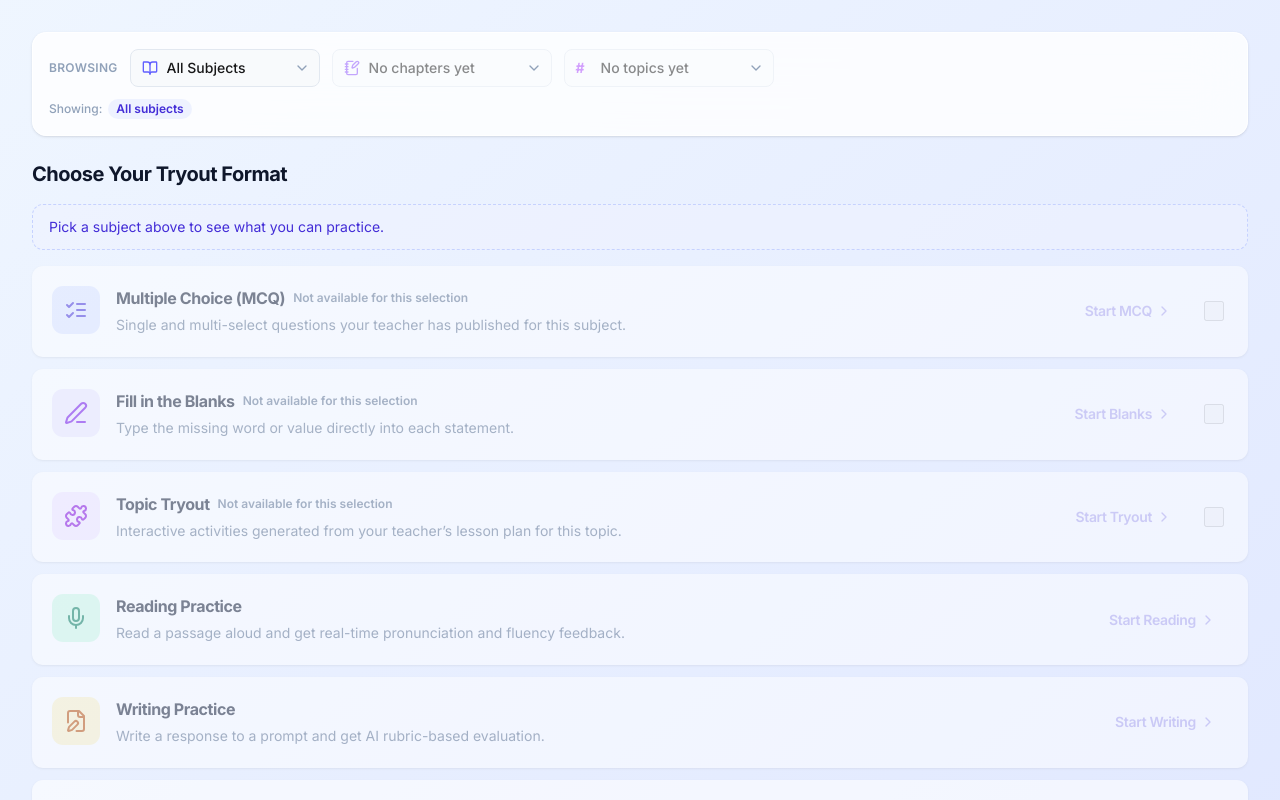
Test: PracticePapersPortal › opens a teacher MCQ inside the practice-papers page
Select "Mathematics" in the dropdown named "Select Subject": (225, 68) left=130, top=49, right=320, bottom=87
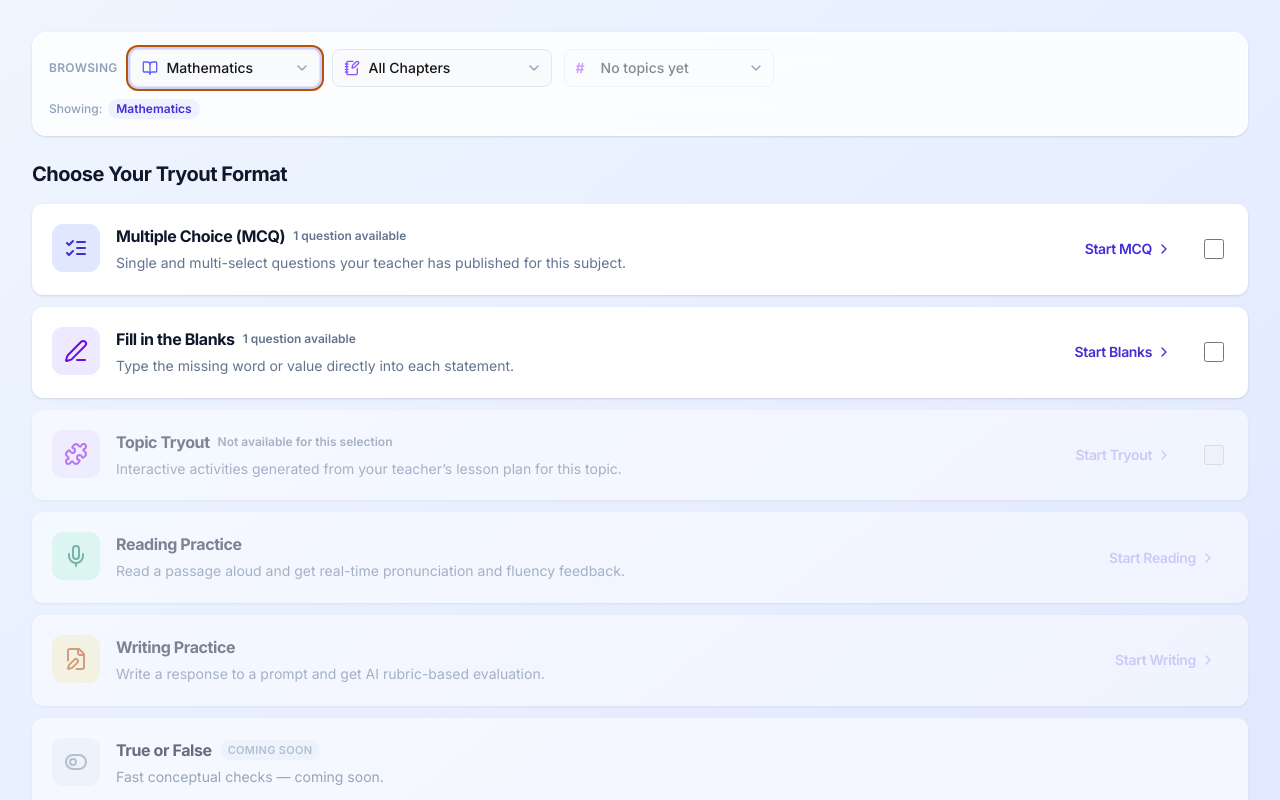
Click the button "Start MCQ": (1128, 249) left=1073, top=233, right=1184, bottom=265
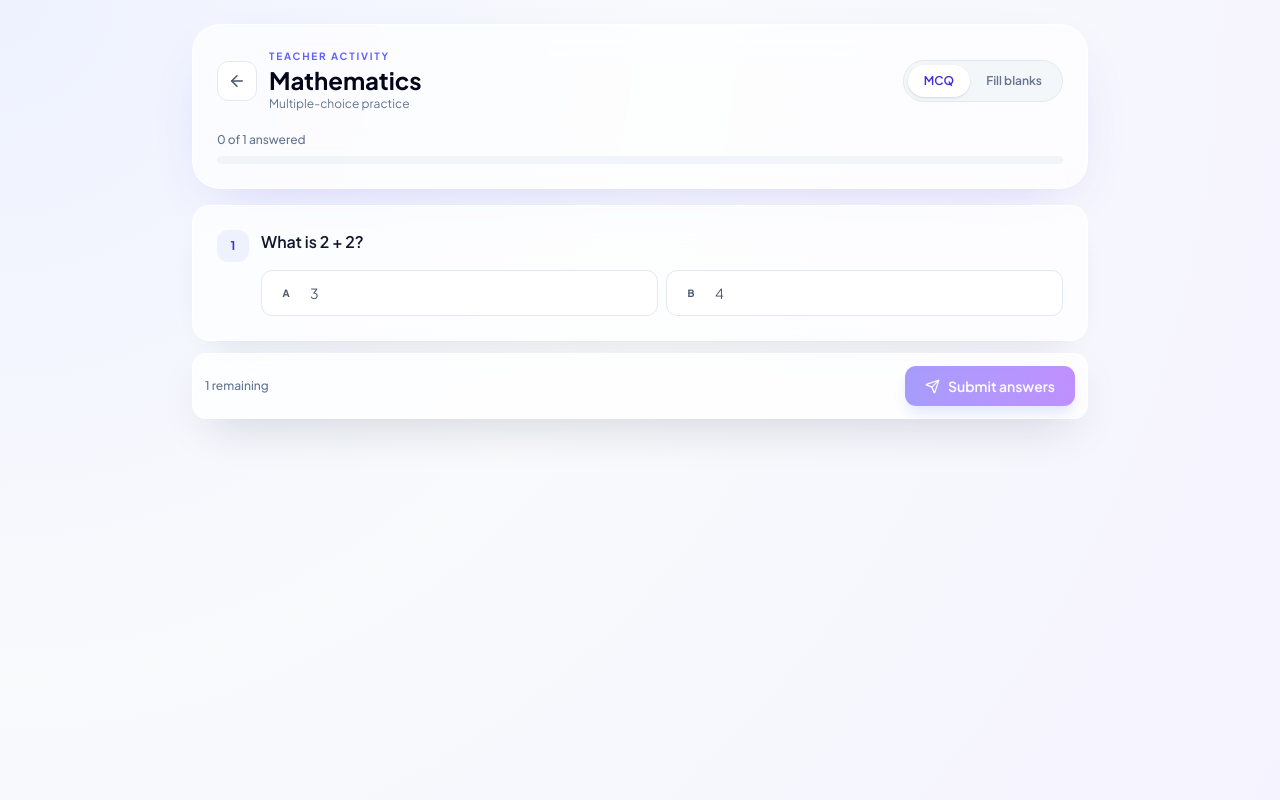
Result: the heading "What is 2 + 2?" is shown at left=261, top=230, right=364, bottom=254
Result: the button named "Back to activities" is shown at left=217, top=60, right=257, bottom=100
